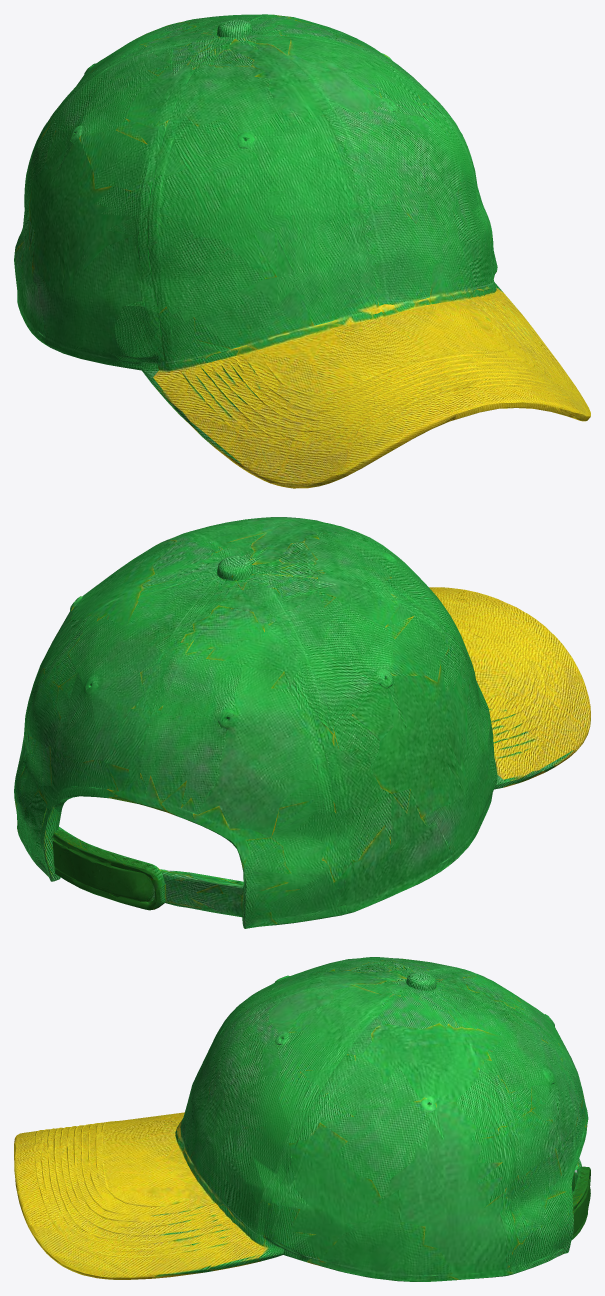
The model's file is mk_cap_gy3_u1.glb.
3 views of the same model, one above another, from view 1: azimuth 30°, elevation 25°; view 2: azimuth 150°, elevation 25°; view 3: azimuth 270°, elevation 25° (orthographic). The views are drawn at different scales.
Bounding box in the file's own units: 1.31 × 0.8673 × 1.9.
Materials: 1 (1 with a texture image).
